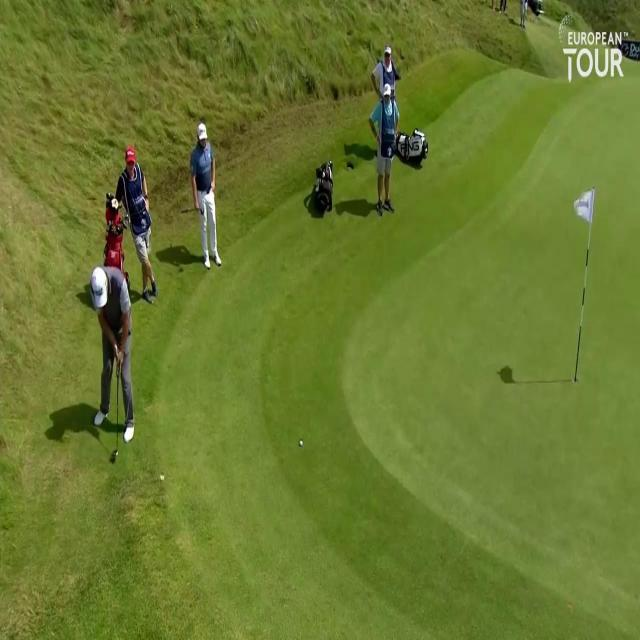GolfBall: (298, 438, 306, 448)
